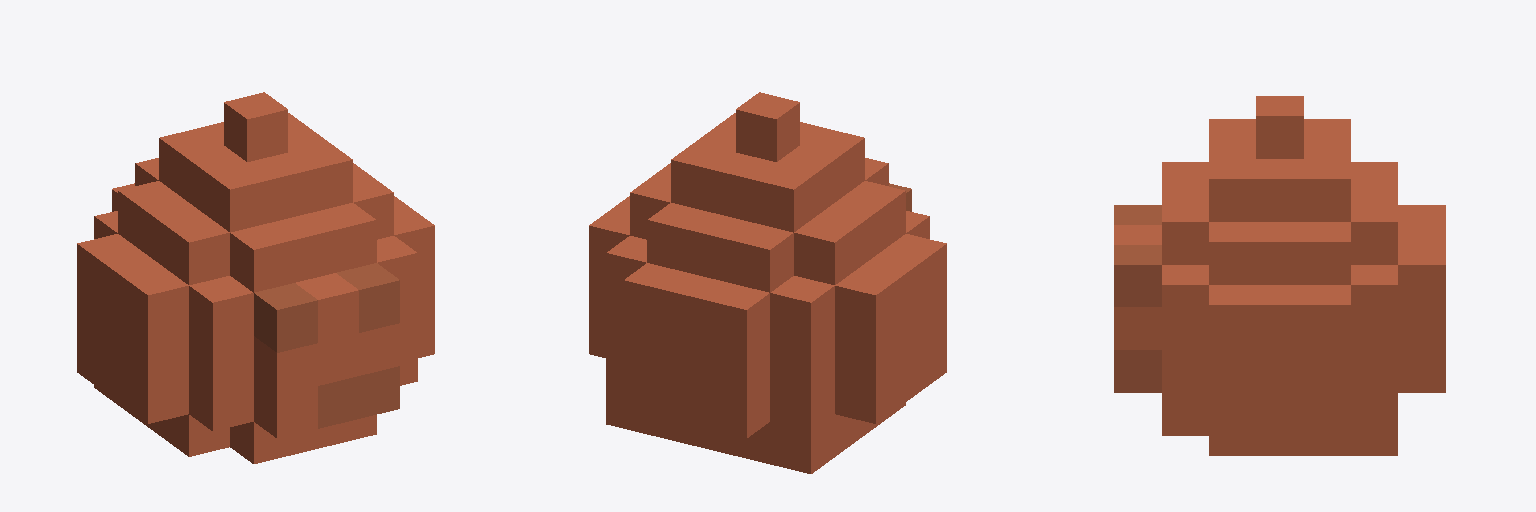
3 renders of one model, left to right at view 1: azimuth 30°, elevation 25°; view 2: azimuth 150°, elevation 25°; view 3: azimuth 270°, elevation 25°, orthographic.
Parts seen in each view (by area): view 1: object 1; view 2: object 1; view 3: object 1.
Part boxes in pixels (x1,y1,x2,y2): object 1: (77, 92, 434, 463); object 1: (589, 92, 946, 473); object 1: (1114, 96, 1445, 455).
Bounding box in the file's own units: 0.7 × 0.7 × 0.7.
1 materials, 1 textured.